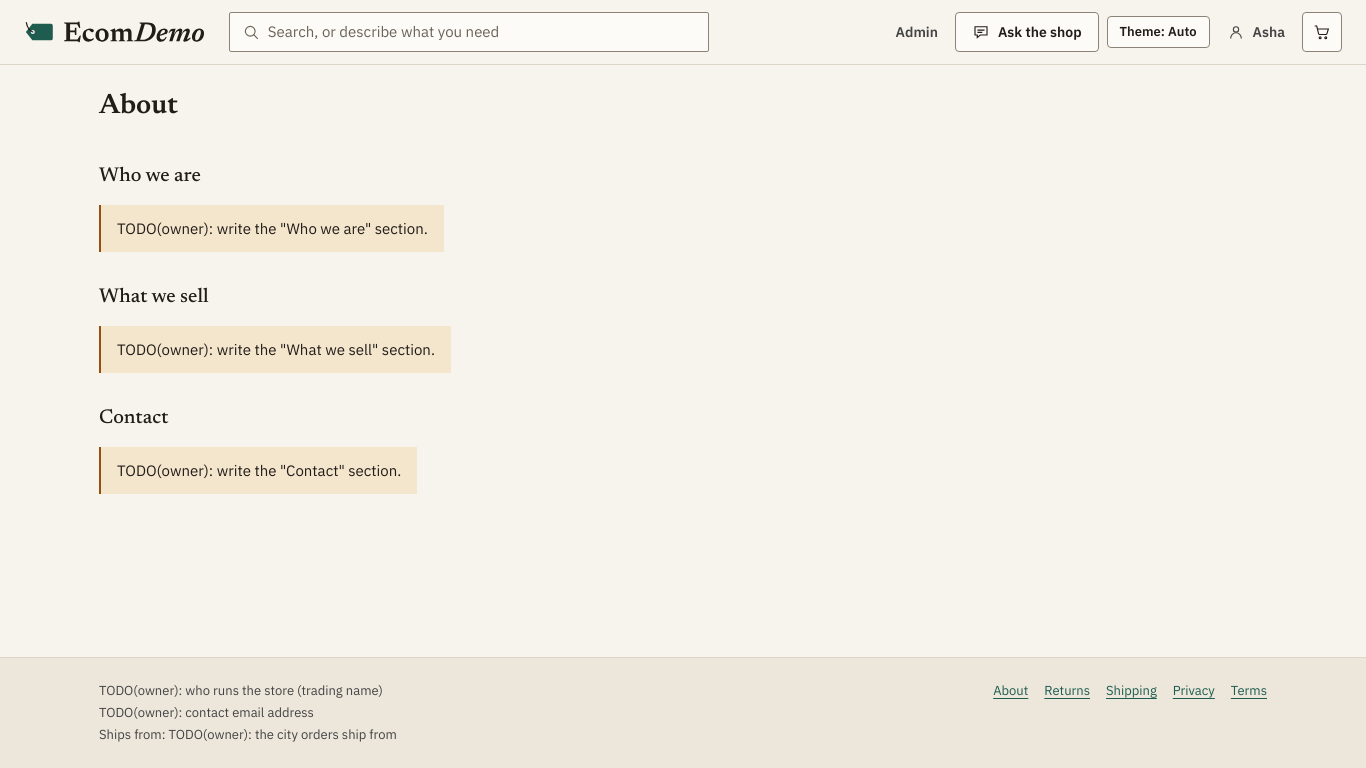
Test: who can ask › tells an admin it is for customers, and sends nothing
Expected: the heading "About" is shown, [99,89,178,123]
Click the button "Ask the shop".
click(1027, 32)  # box [955,12,1099,52]
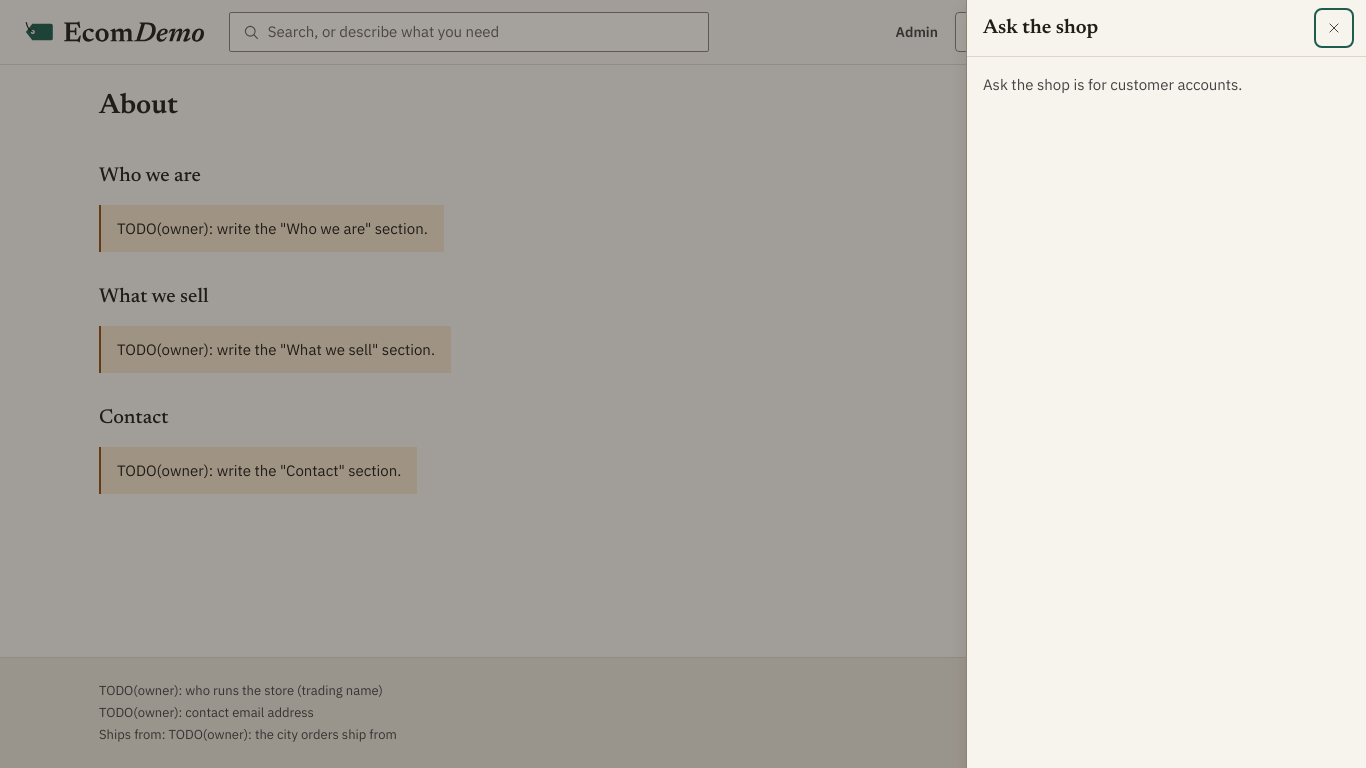
Result: the dialog "Ask the shop" is shown at [966,0,1365,767]
Result: the text "Ask the shop is for customer accounts." is shown at [983,73,1242,96]
